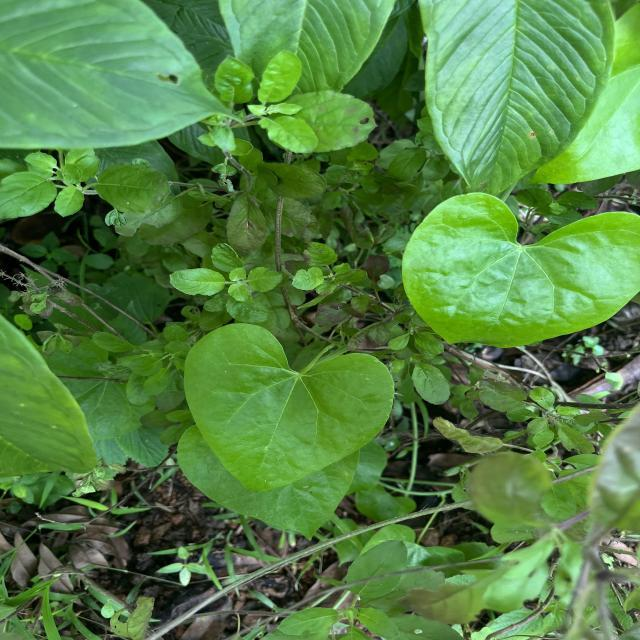Tinospora cordifolia: (398, 188, 640, 351), (180, 320, 396, 495)
